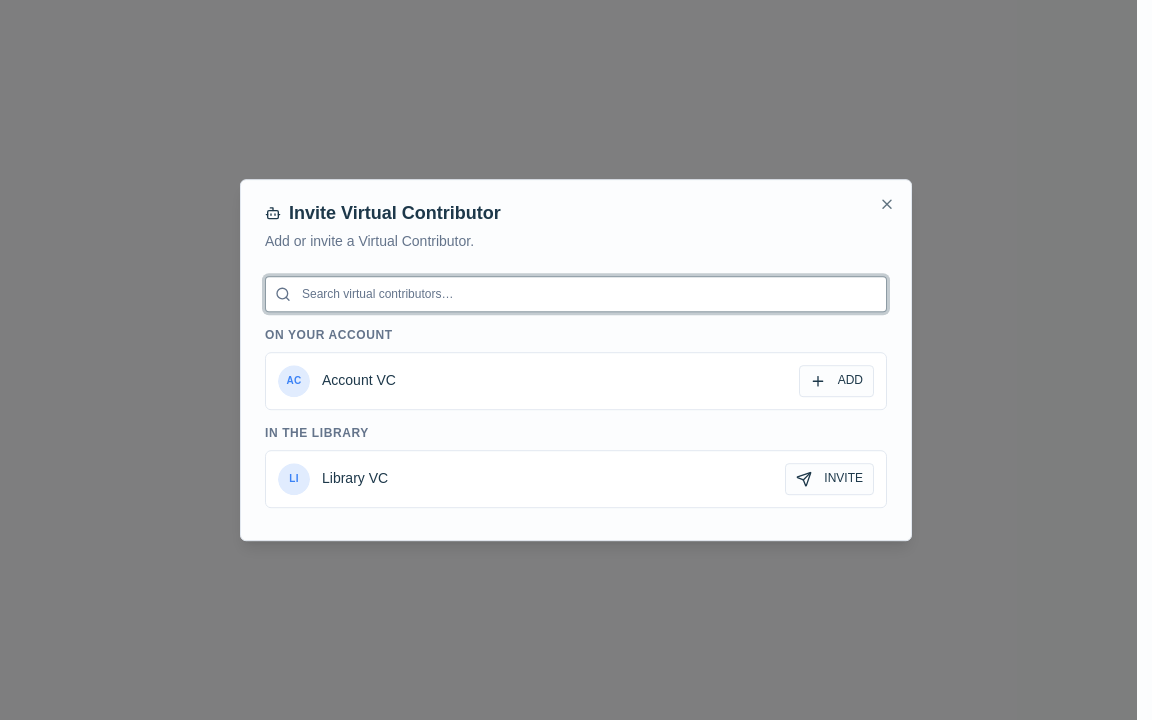
Scenario: InviteMembersDialog — virtualContributor kind (T019 fold parity) › library message step: Send is disabled while the message is empty/whitespace
The image size is (1152, 720).
Click the button with aria-label "Invite Library VC". click: (830, 479)
box: [785,463,874,495]
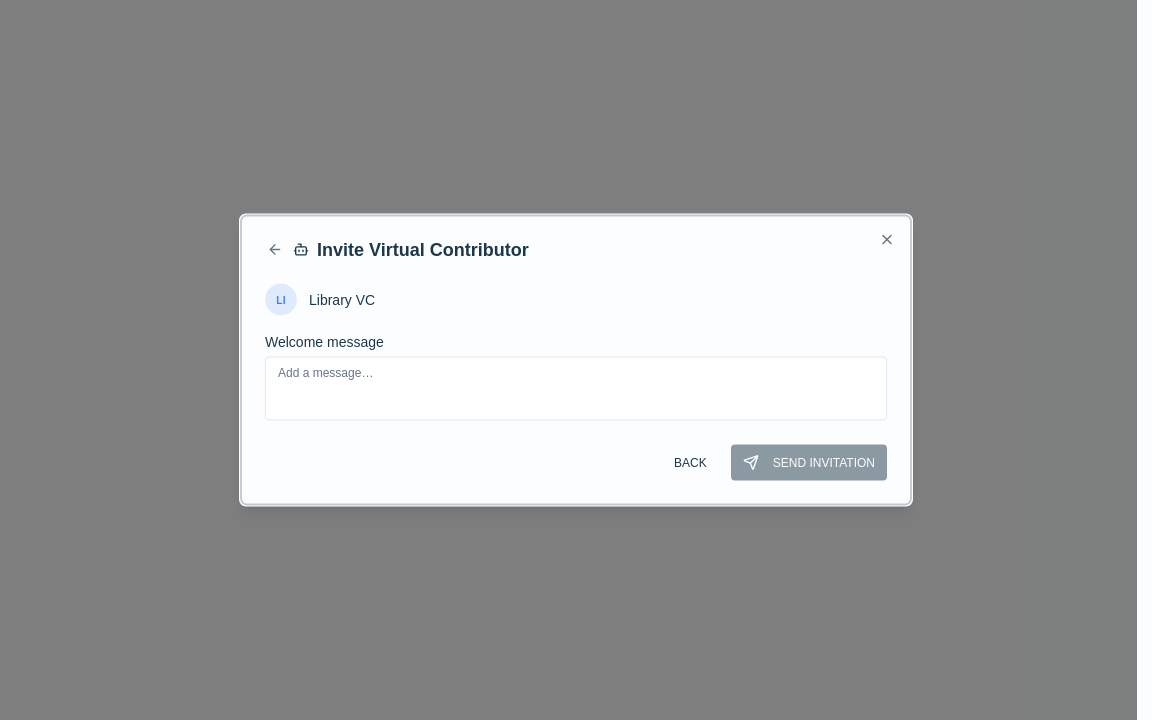
Result: the button "Send invitation" is disabled at [731,444,887,480]
